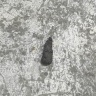Dog: (40, 37, 53, 66)
